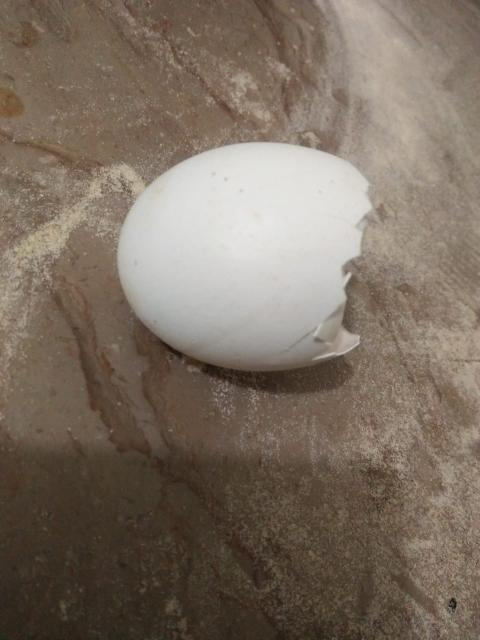Roto: (116, 140, 373, 372)
